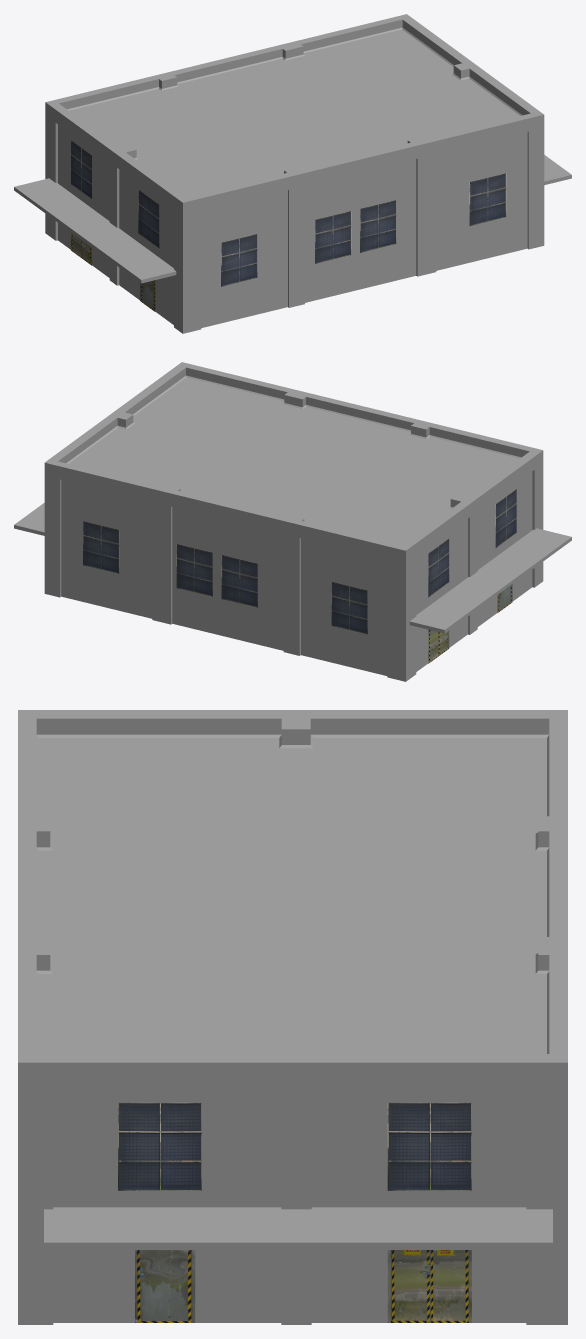
The model's file is PeiDianJian.fbx.
The picture shows the model from 3 angles, top to bottom: view 1: azimuth 30°, elevation 25°; view 2: azimuth 150°, elevation 25°; view 3: azimuth 270°, elevation 25°; orthographic projection. The views are drawn at different scales.
Parts seen in each view (by area): view 1: PDJ, Chuang, DaMen3, DaMen2, DaMen1; view 2: PDJ, Chuang1, DaMen2, DaMen3, DaMen; view 3: PDJ, DaMen5, DaMen4, DaMen7, DaMen6.
Boxes of the visible parts, x1=… form: PDJ: x1=14, y1=14, x2=571, y2=333; Chuang: x1=221, y1=173, x2=506, y2=286; DaMen3: x1=138, y1=189, x2=159, y2=248; DaMen2: x1=71, y1=140, x2=91, y2=199; DaMen1: x1=140, y1=280, x2=155, y2=311; PDJ: x1=14, y1=362, x2=571, y2=681; Chuang1: x1=83, y1=521, x2=367, y2=634; DaMen2: x1=428, y1=538, x2=449, y2=597; DaMen3: x1=495, y1=489, x2=516, y2=547; DaMen: x1=428, y1=629, x2=449, y2=663; PDJ: x1=18, y1=710, x2=567, y2=1324; DaMen5: x1=387, y1=1102, x2=471, y2=1190; DaMen4: x1=118, y1=1102, x2=201, y2=1190; DaMen7: x1=387, y1=1250, x2=471, y2=1322; DaMen6: x1=135, y1=1250, x2=195, y2=1322.
Size of the model in its own units: 1821 by 530 by 1007.
7 materials, 1 textured.
